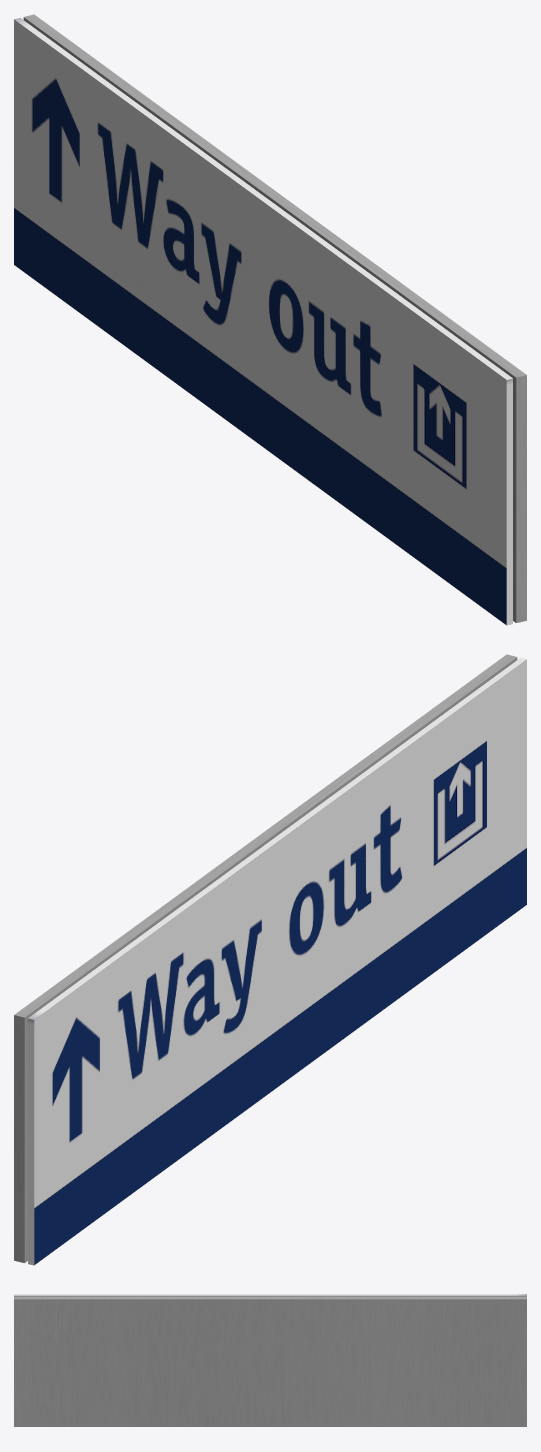
File: scotrail_way_out.obj
3 views of the same model, one above another, from view 1: azimuth 30°, elevation 25°; view 2: azimuth 150°, elevation 25°; view 3: azimuth 270°, elevation 25° (orthographic). The views are drawn at different scales.
Parts seen in each view (by area): view 1: cube; view 2: cube; view 3: cube.
Part boxes in pixels (box(x1,y1,x2,y2)): cube: box(14, 14, 526, 625); cube: box(14, 654, 526, 1265); cube: box(14, 1294, 526, 1426).
Bounding box in the file's own units: 0.0922 × 0.3438 × 1.25.
Materials: 2 (2 with a texture image).
